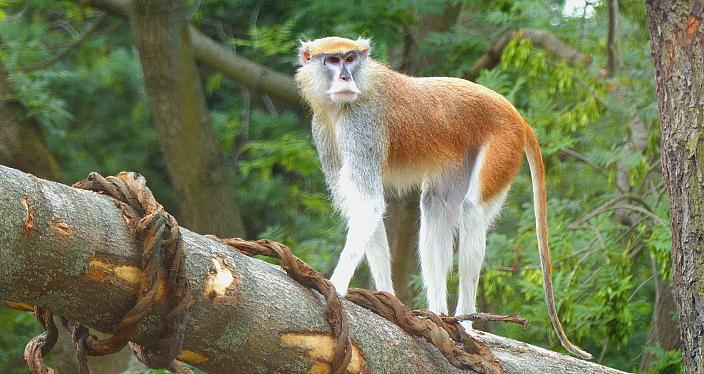monkey: (292, 37, 545, 318)
